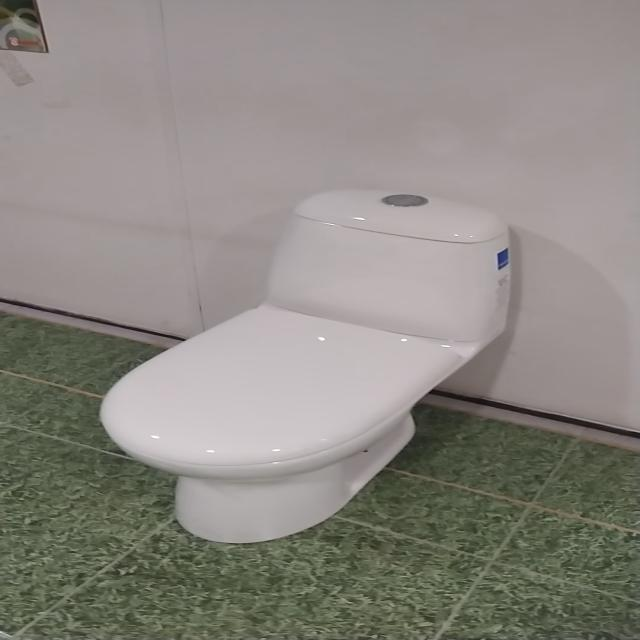toilet: (98, 188, 512, 544)
